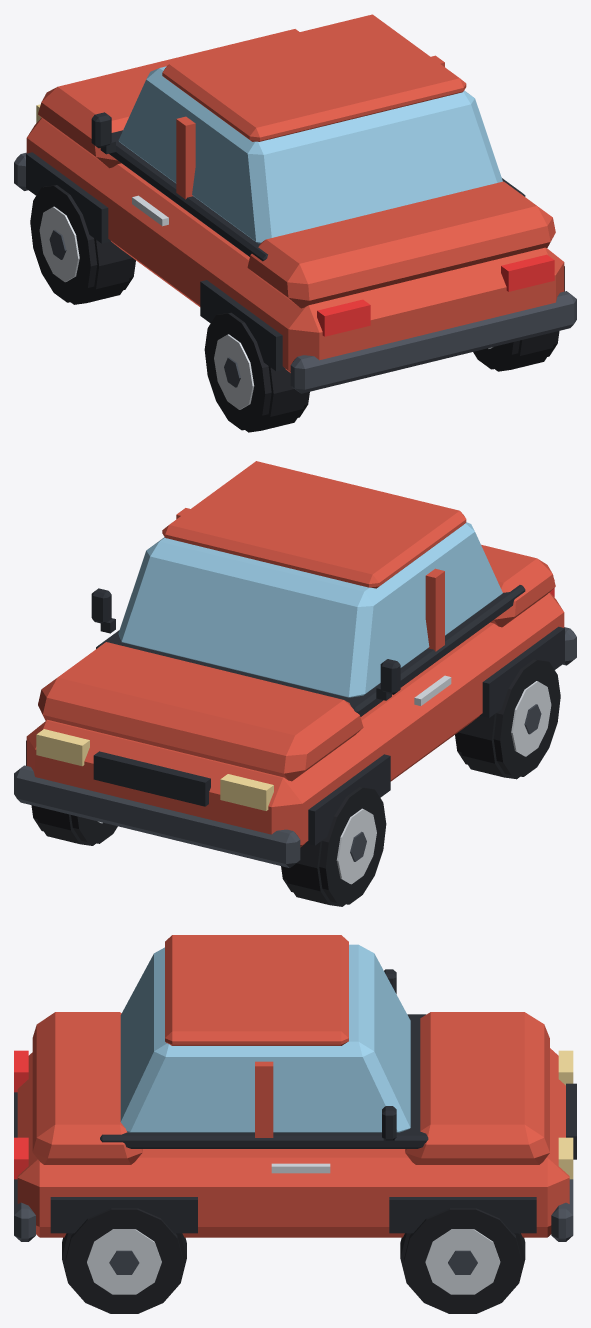
The model's file is sedan.glb.
3 renders of one model, top to bottom at view 1: azimuth 30°, elevation 25°; view 2: azimuth 150°, elevation 25°; view 3: azimuth 270°, elevation 25°, orthographic. The views are drawn at different scales.
Parts seen in each view (by area): view 1: Body, Wheel_0L, Wheel_1L, Wheel_1R; view 2: Body, Wheel_1L, Wheel_0L, Wheel_0R; view 3: Body, Wheel_0R, Wheel_1R.
Boxes of the visible parts, x1=… form: Body: x1=14, y1=14, x2=576, y2=393; Wheel_0L: x1=30, y1=185, x2=135, y2=304; Wheel_1L: x1=204, y1=312, x2=309, y2=432; Wheel_1R: x1=473, y1=331, x2=559, y2=371; Body: x1=14, y1=461, x2=576, y2=867; Wheel_1L: x1=455, y1=659, x2=560, y2=779; Wheel_0L: x1=281, y1=787, x2=386, y2=906; Wheel_0R: x1=31, y1=805, x2=117, y2=845; Body: x1=14, y1=935, x2=576, y2=1241; Wheel_0R: x1=400, y1=1208, x2=525, y2=1313; Wheel_1R: x1=62, y1=1208, x2=186, y2=1313.
Bounding box in the file's own units: 0.93 × 0.7907 × 1.53.
Materials: 1 (1 with a texture image).
